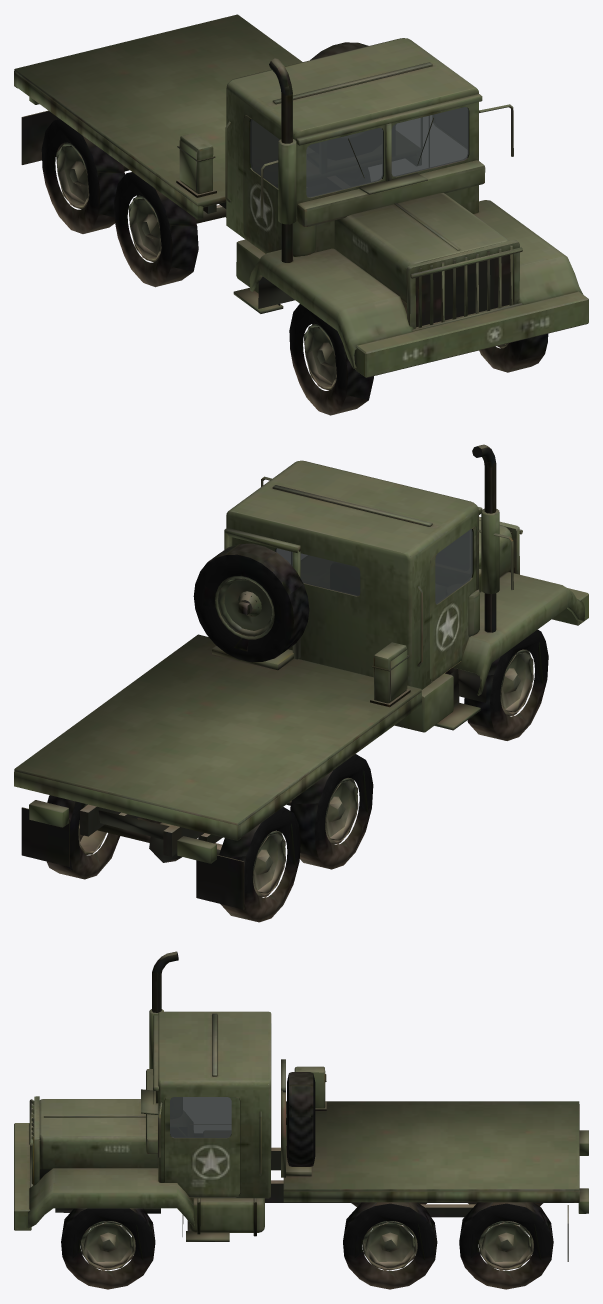
The model's file is nuketown_m35-low.glb.
3 views of the same model, one above another, from view 1: azimuth 30°, elevation 25°; view 2: azimuth 150°, elevation 25°; view 3: azimuth 270°, elevation 25° (orthographic). The views are drawn at different scales.
Parts seen in each view (by area): view 1: m35_A_low, m35_glass_low, m35_B_low; view 2: m35_A_low, m35_B_low, m35_glass_low; view 3: m35_A_low, m35_glass_low, m35_B_low.
Part boxes in pixels (x1,y1,x2,y2): m35_A_low: (14,14,588,415); m35_glass_low: (250,107,468,197); m35_B_low: (123,165,406,313); m35_A_low: (14,444,588,922); m35_B_low: (80,567,515,862); m35_glass_low: (275,529,472,604); m35_A_low: (14,951,588,1289); m35_glass_low: (170,1097,231,1137); m35_B_low: (39,1147,574,1236).
Size of the model in its own units: 2.67 by 3.24 by 6.53.
3 materials, 2 textured.
